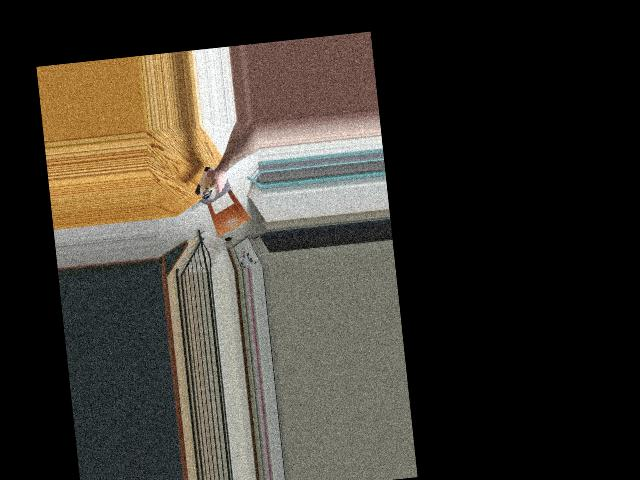cheese: (192, 162, 228, 201)
